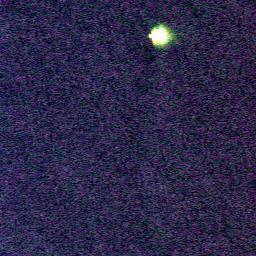Ship: (144, 27, 175, 45)
